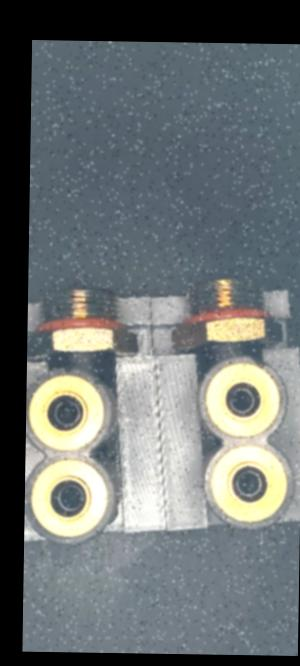bump: (58, 366, 80, 381), (248, 356, 270, 369), (91, 376, 102, 390)
